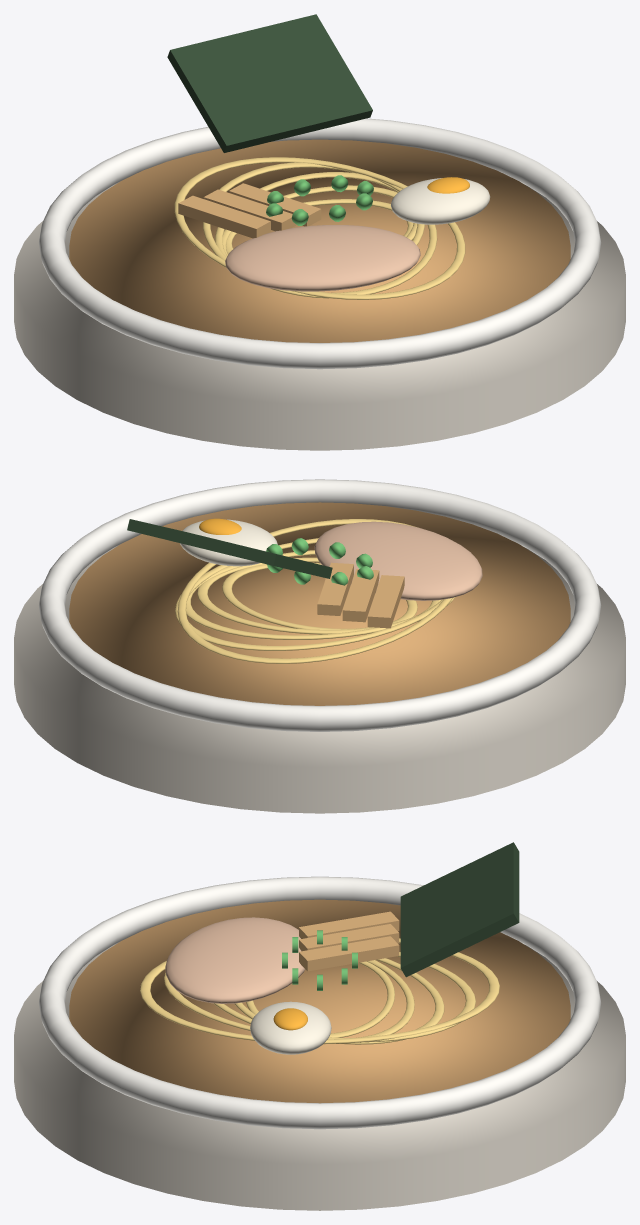
File: toshikoshi_soba.glb
The picture shows the model from 3 angles, top to bottom: view 1: azimuth 30°, elevation 25°; view 2: azimuth 150°, elevation 25°; view 3: azimuth 270°, elevation 25°; orthographic projection.
Size of the model in its own units: 2.1 by 0.8084 by 2.1.
